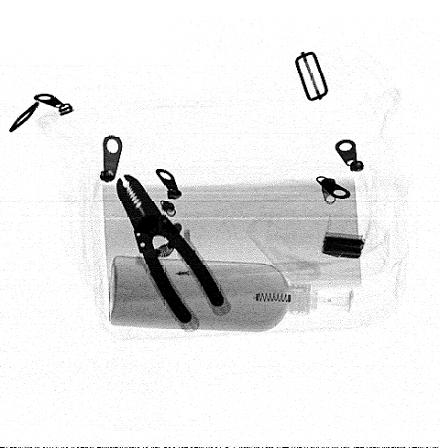Pliers: (115, 173, 227, 322)
